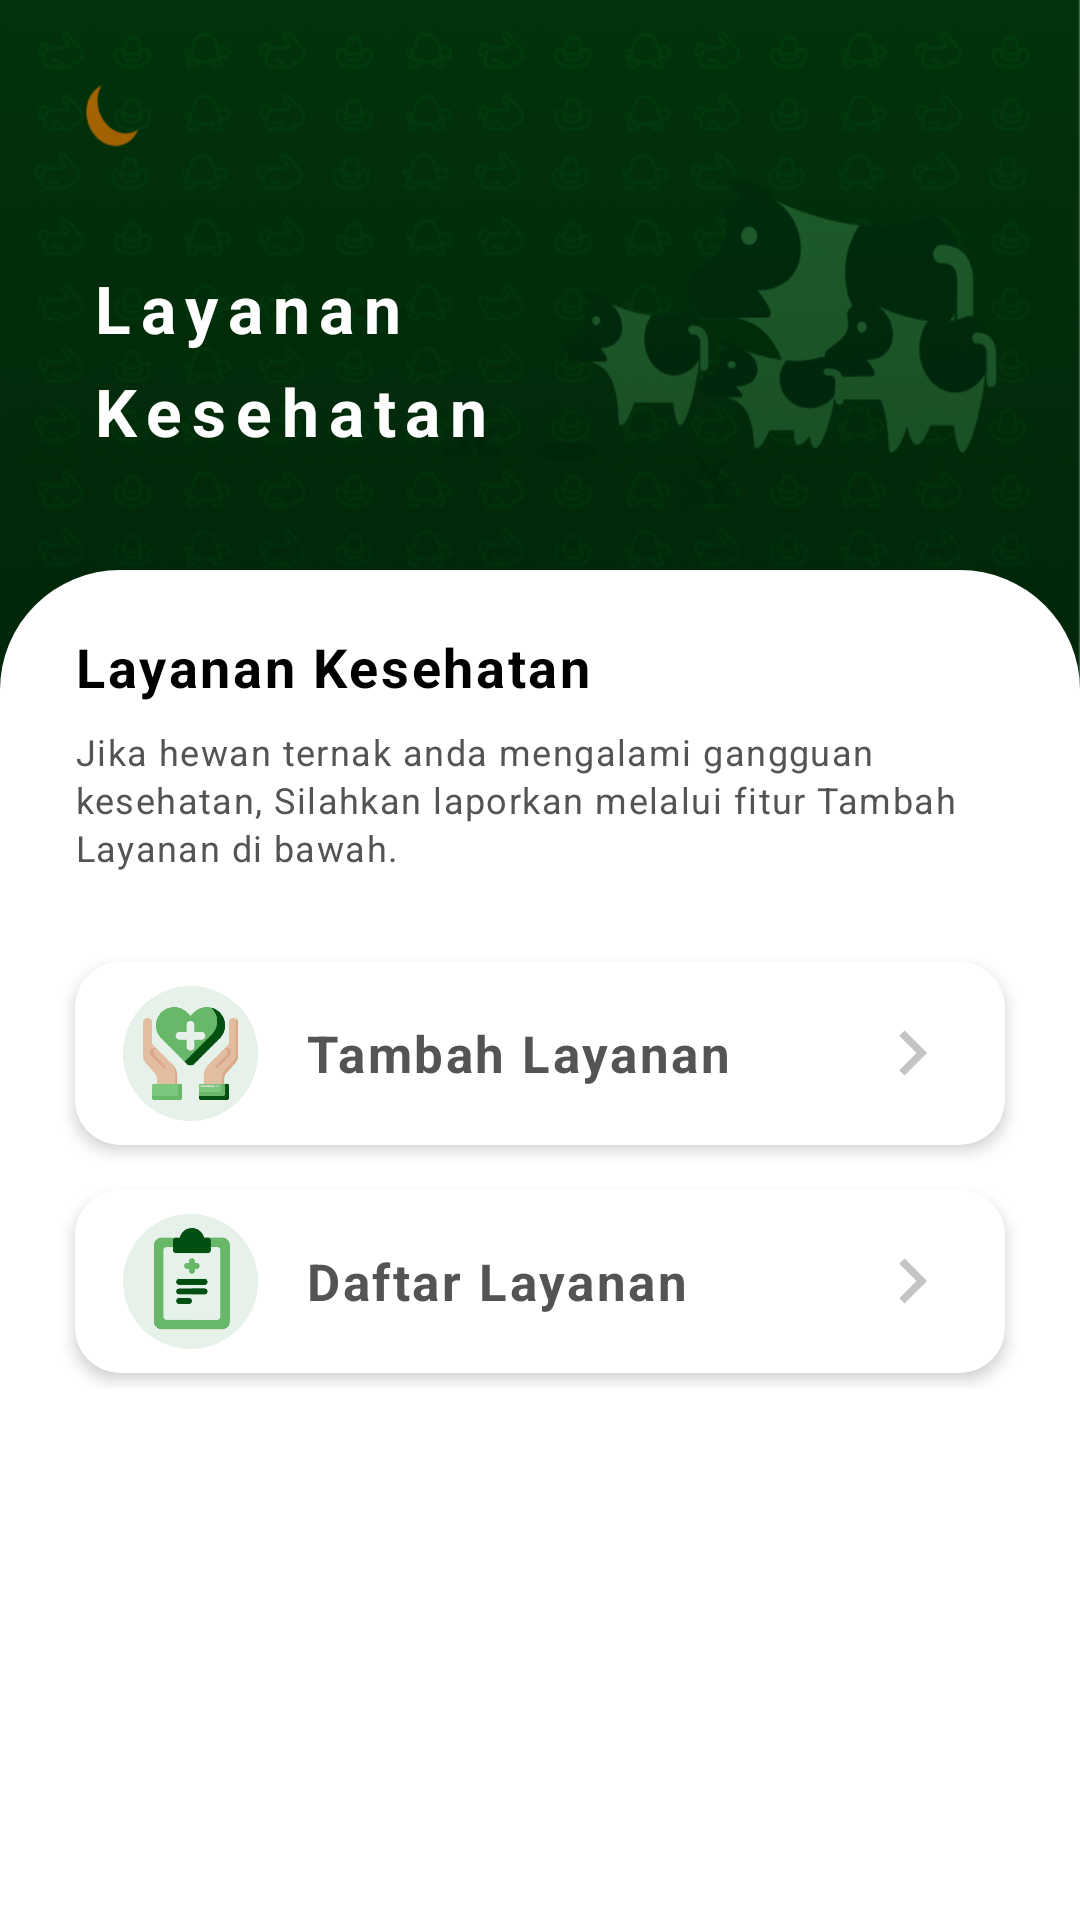

Where icons sit on this 1080px x 1920px app screen, as {"x1": x1, "y1": y1, "x2": x2, "y2": y2}:
list laporan: {"x1": 123, "y1": 1214, "x2": 258, "y2": 1349}
right: {"x1": 899, "y1": 1031, "x2": 927, "y2": 1075}, {"x1": 899, "y1": 1259, "x2": 927, "y2": 1303}
